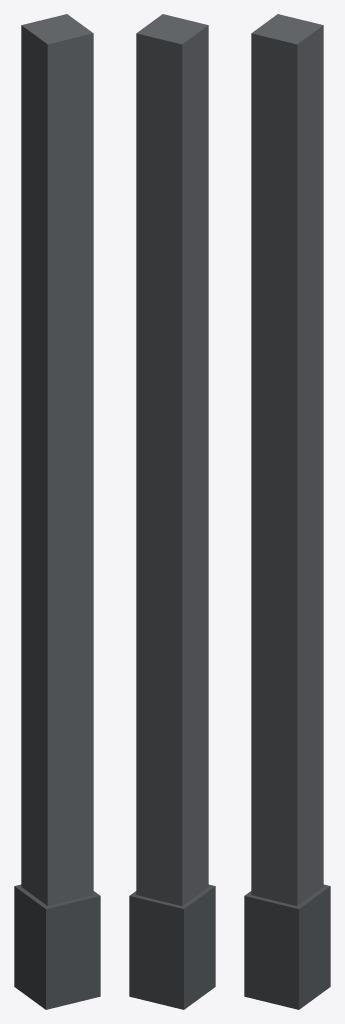
File: WallCorner_02.fbx
The picture shows the model from 3 angles, left to right: view 1: azimuth 30°, elevation 25°; view 2: azimuth 150°, elevation 25°; view 3: azimuth 330°, elevation 25°; orthographic projection.
Visible parts, largest first — view 1: WallCorner_02; view 2: WallCorner_02; view 3: WallCorner_02.
Boxes of the visible parts, bbox=[...] form: WallCorner_02: bbox=[14, 14, 100, 1009]; WallCorner_02: bbox=[129, 14, 215, 1009]; WallCorner_02: bbox=[244, 14, 330, 1009].
Bounding box in the file's own units: 59.38 × 1000 × 59.38.
